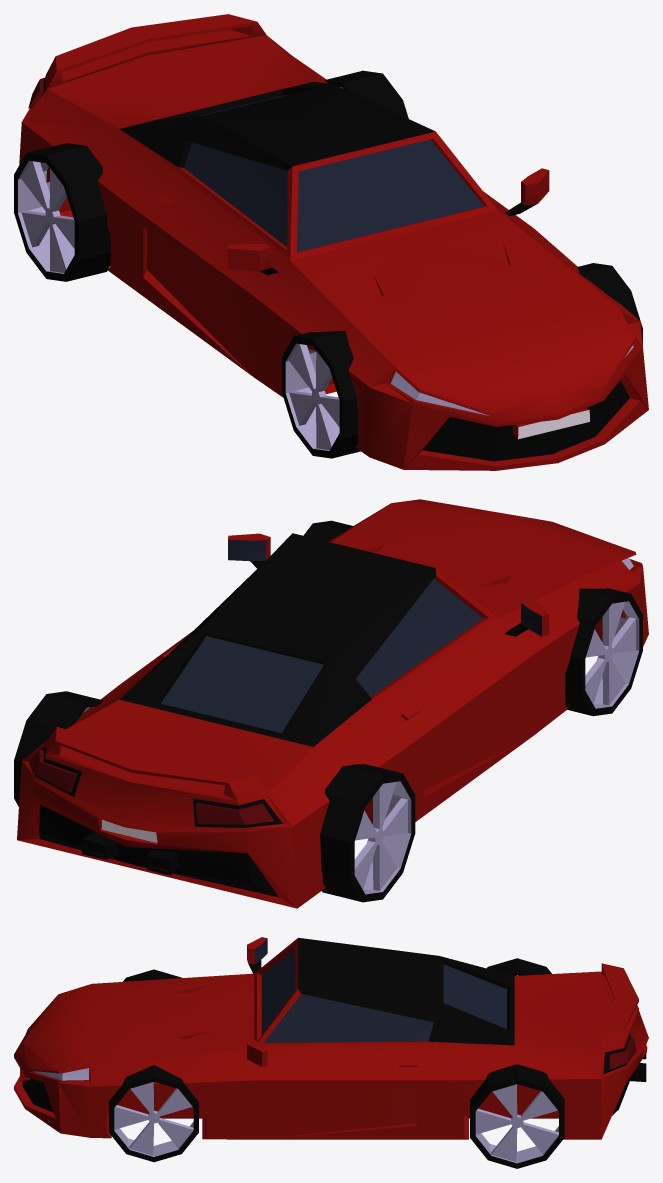
The model's file is zanna.glb.
The picture shows the model from 3 angles, top to bottom: view 1: azimuth 30°, elevation 25°; view 2: azimuth 150°, elevation 25°; view 3: azimuth 270°, elevation 25°; orthographic projection. The views are drawn at different scales.
Parts seen in each view (by area): view 1: paint, trim, palette, glass, tyre (×2), rim, chrome, headlight; view 2: paint, trim, palette, glass, tyre (×3), taillight, rim; view 3: paint, trim, palette, glass, tyre (×3), rim (×2), taillight, headlight.
Part boxes in pixels (<box>): paint: <box>19,14,648,470</box>; trim: <box>39,78,629,461</box>; palette: <box>14,72,642,458</box>; glass: <box>184,95,484,251</box>; tyre (×2): <box>14,70,401,281</box>; rim: <box>18,161,74,273</box>; chrome: <box>518,410,589,439</box>; headlight: <box>391,345,633,415</box>; paint: <box>17,499,648,908</box>; trim: <box>34,533,528,897</box>; palette: <box>14,520,642,902</box>; glass: <box>161,539,541,732</box>; tyre (×3): <box>14,591,641,900</box>; taillight: <box>28,749,273,824</box>; rim: <box>585,613,637,704</box>; paint: <box>14,937,648,1139</box>; trim: <box>22,937,646,1115</box>; palette: <box>109,958,564,1168</box>; glass: <box>255,939,506,1042</box>; tyre (×3): <box>117,958,563,1168</box>; rim (×2): <box>117,1082,549,1163</box>; taillight: <box>608,1037,636,1069</box>; headlight: <box>34,1068,88,1080</box>.
Size of what is drawn, in the model's own units: 2.15 by 1.21 by 4.79.
12 materials, 3 textured.
